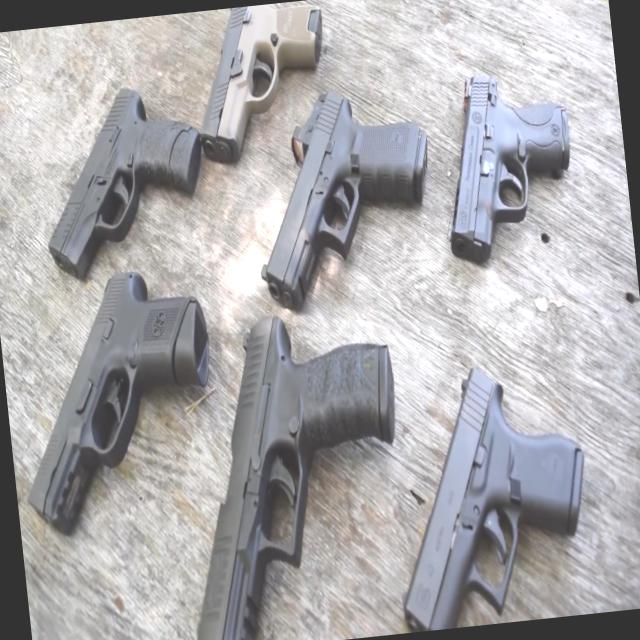handgun: (150, 293, 446, 639), (5, 240, 256, 550), (360, 348, 636, 624), (227, 84, 442, 299), (420, 61, 599, 266), (38, 83, 220, 273), (179, 0, 351, 163)
